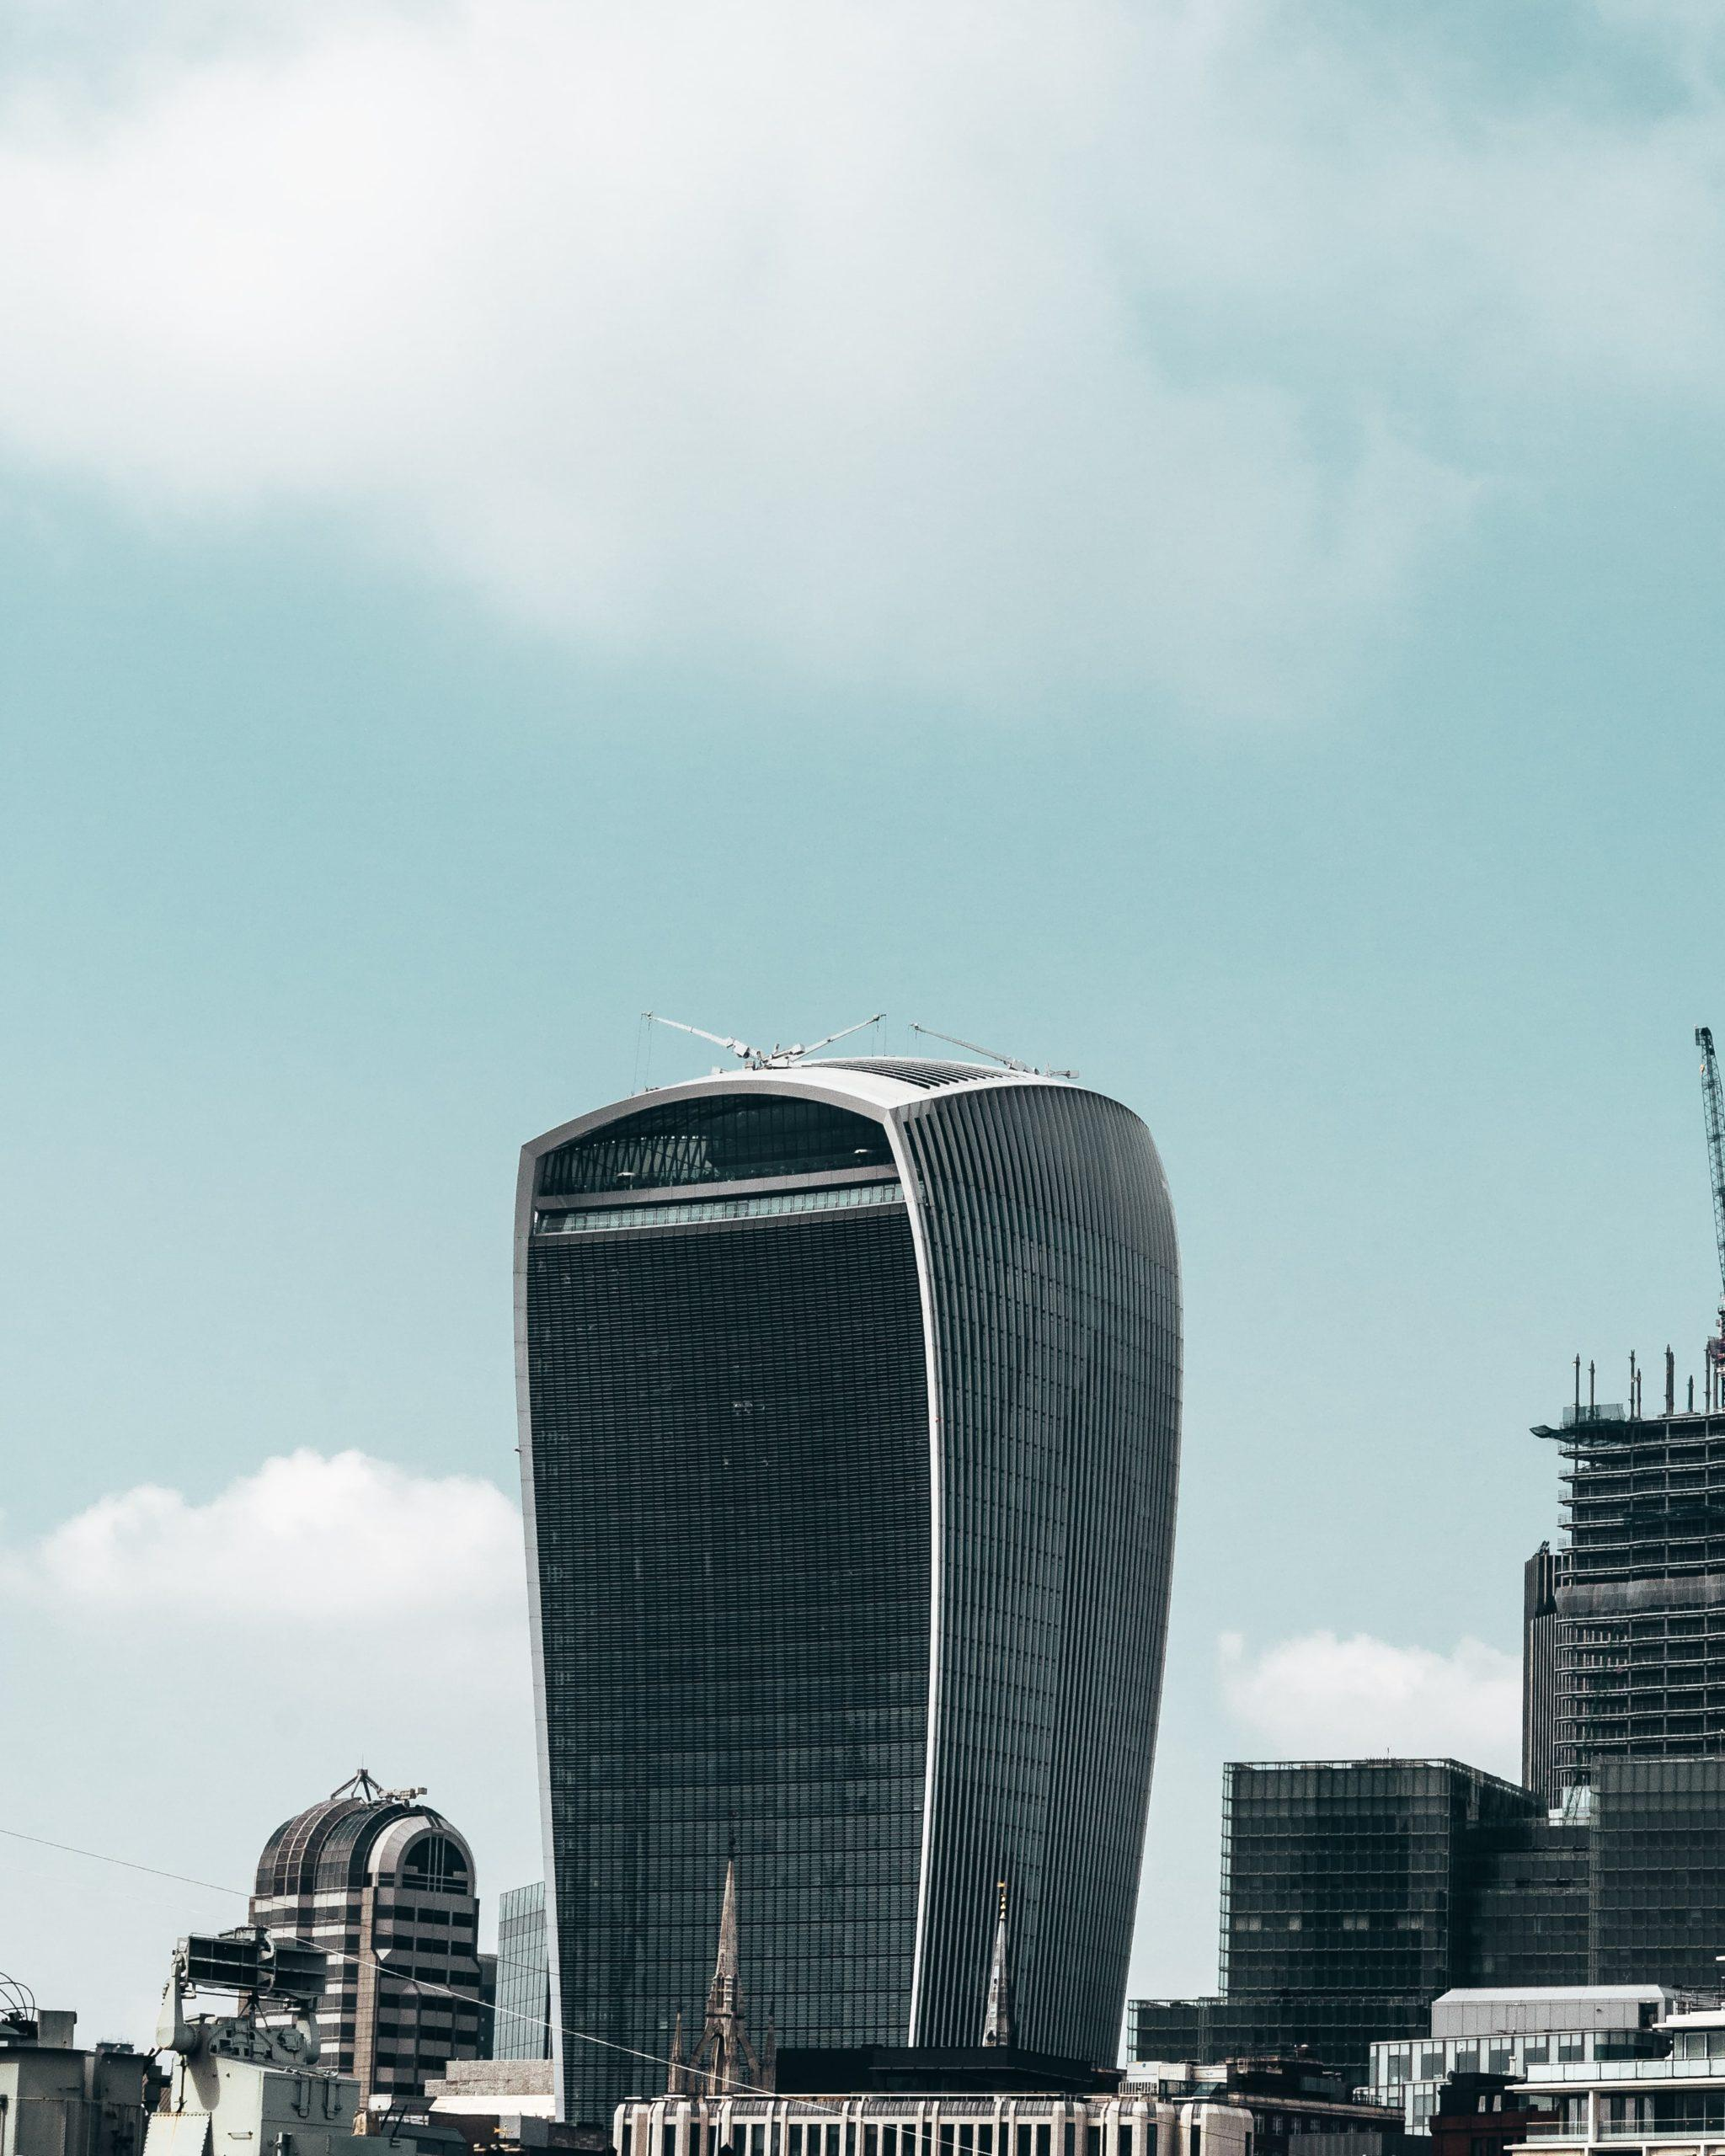Walkie talkie: (481, 1016, 1223, 2063)
